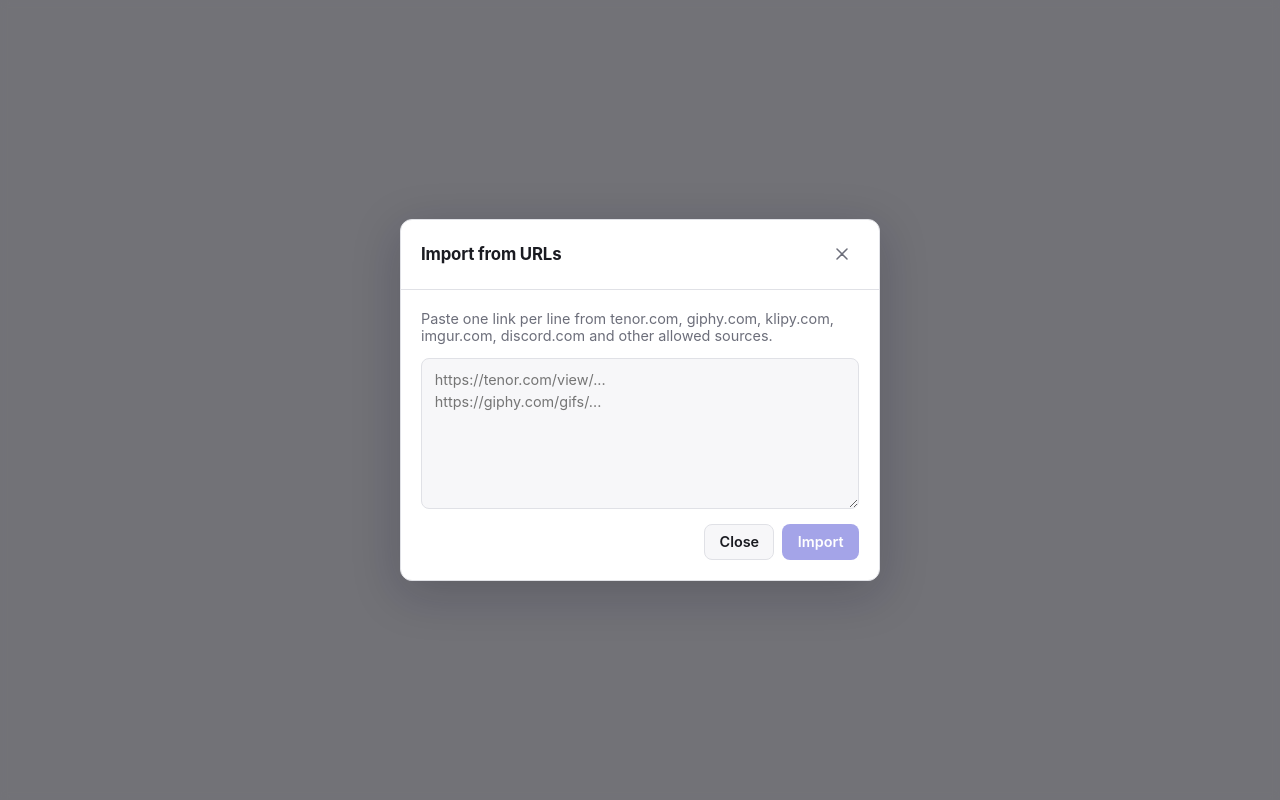
Test: ImportDialog › reports a clean run and clears the textarea
Type "https://tenor.com/view/a" into the text box named "Import URLs" at [640, 434], box [421,358,859,509]
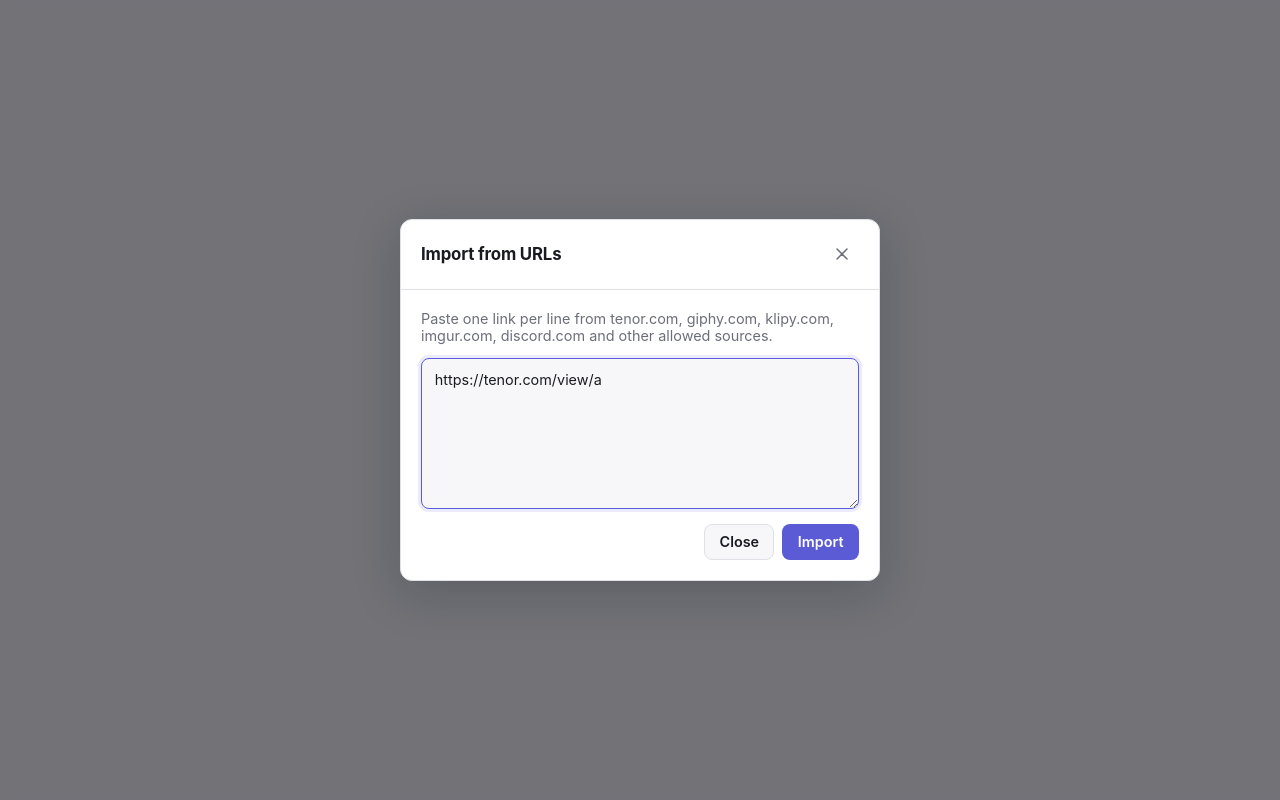
Click the button "Import" at [821, 542], box [782,524,859,560]
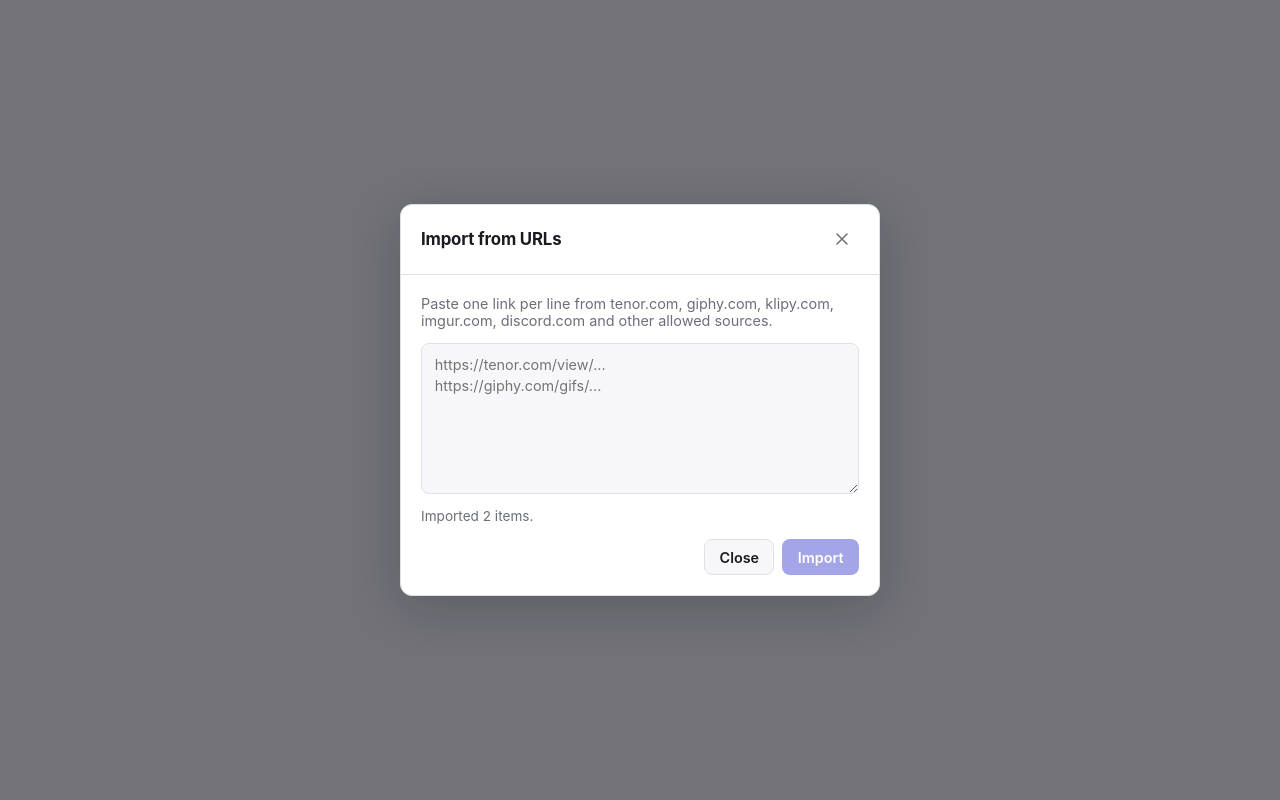
Now the text "Imported 2 items." is shown, box [421,508,533,524]
Now the text box named "Import URLs" is empty, box [421,343,859,494]
